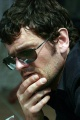male: (6, 19, 63, 86)
